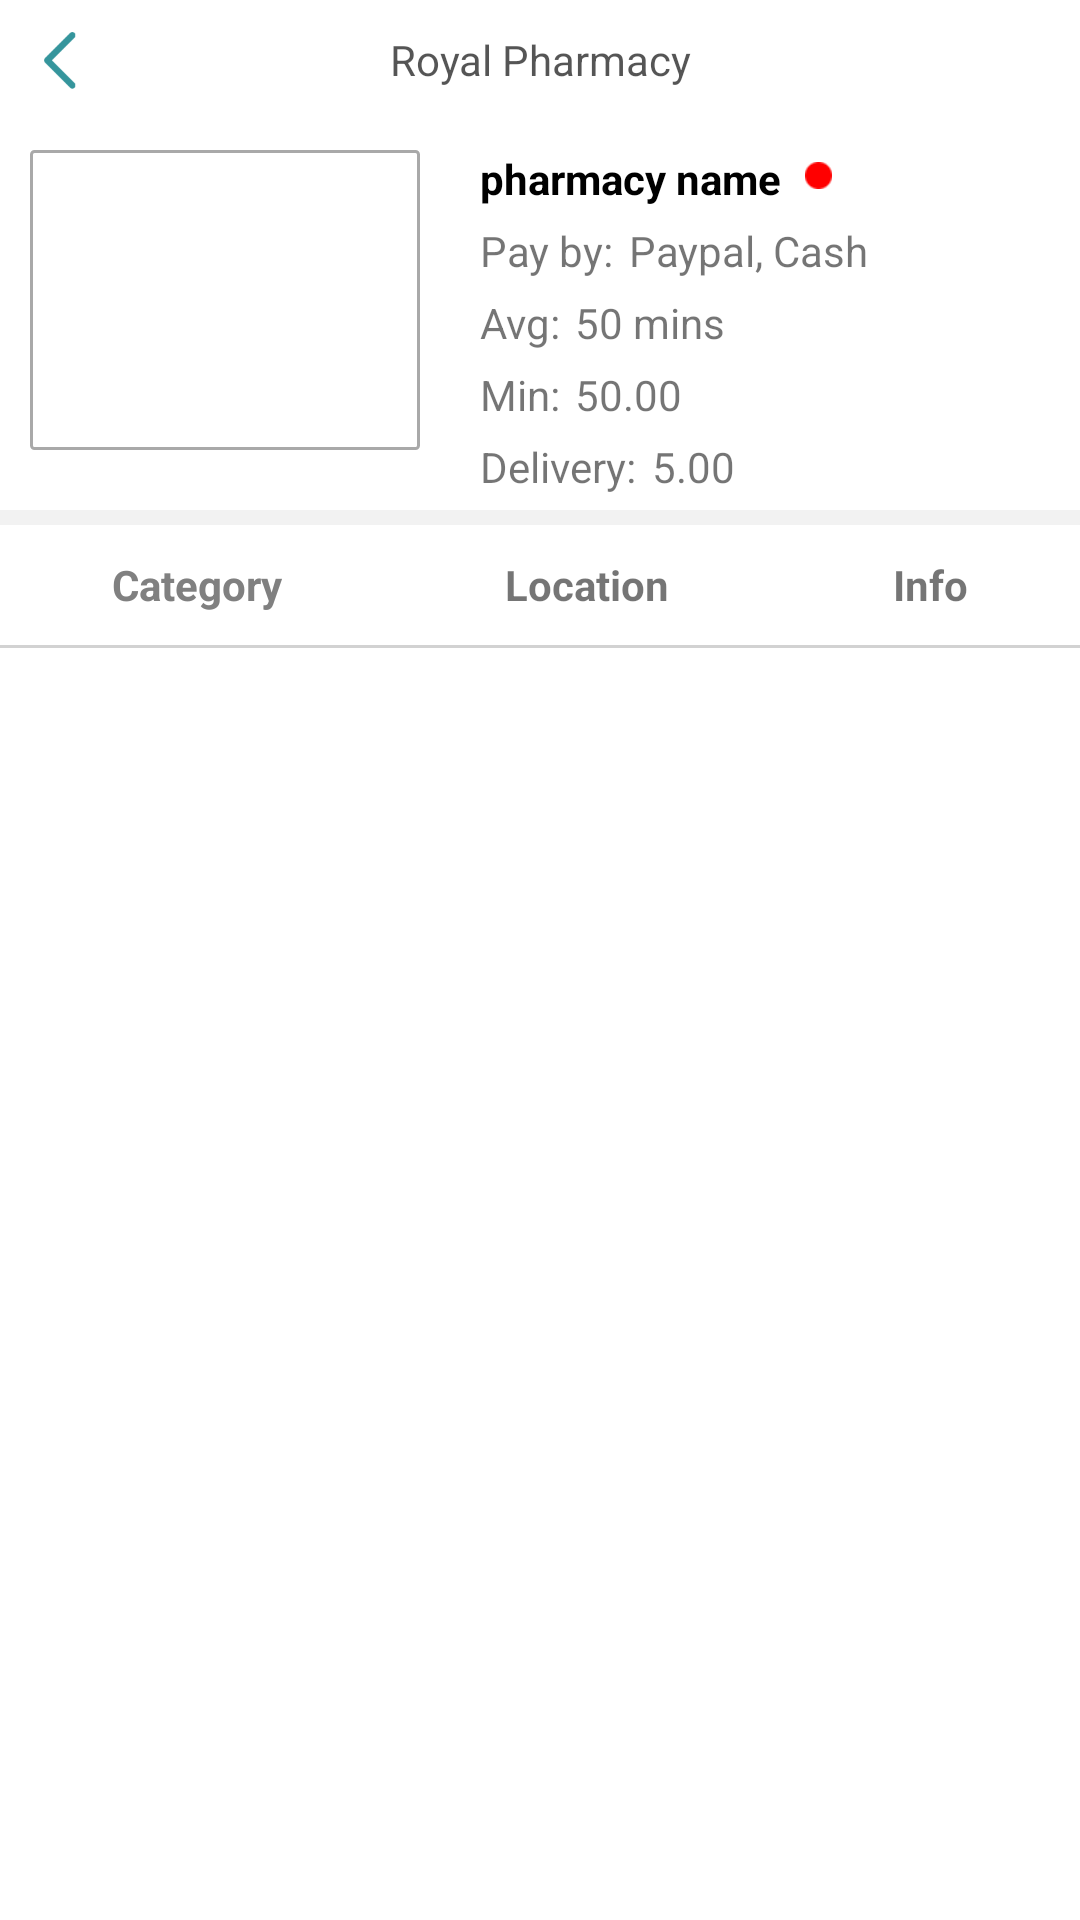

Screen size 1080 × 1920. Icon name, then its center in pixels as point (x, y):
back: point (60, 60)
